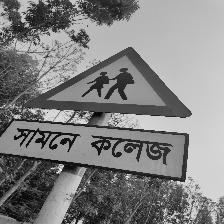College-in-front: (0, 48, 222, 177)
